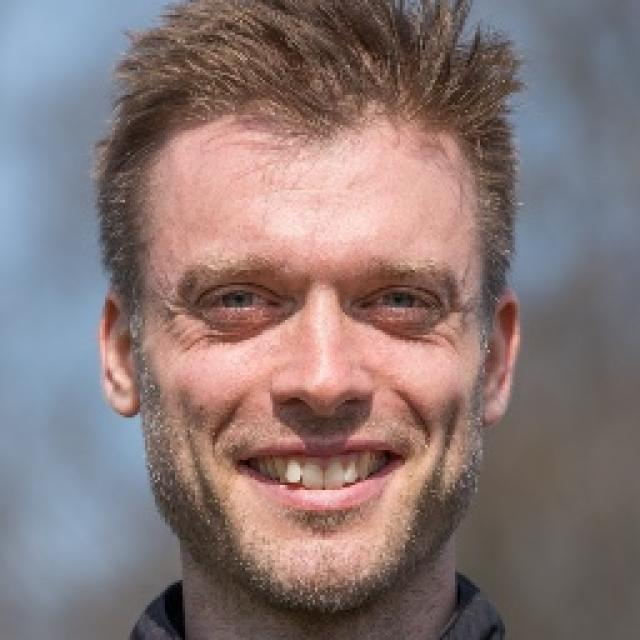earlobe: (104, 372, 142, 418), (479, 382, 510, 425)
eye: (359, 282, 442, 313), (200, 286, 283, 316)
nose: (276, 392, 370, 431)
wholeear: (478, 290, 522, 425), (96, 290, 141, 418)
